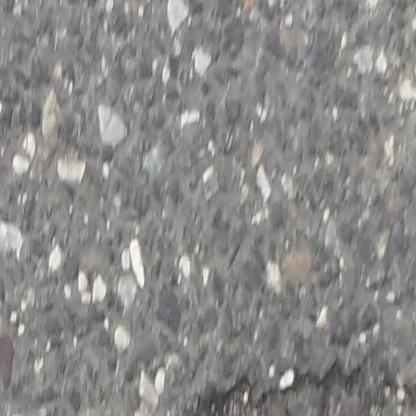Cracks: (172, 354, 416, 416)
